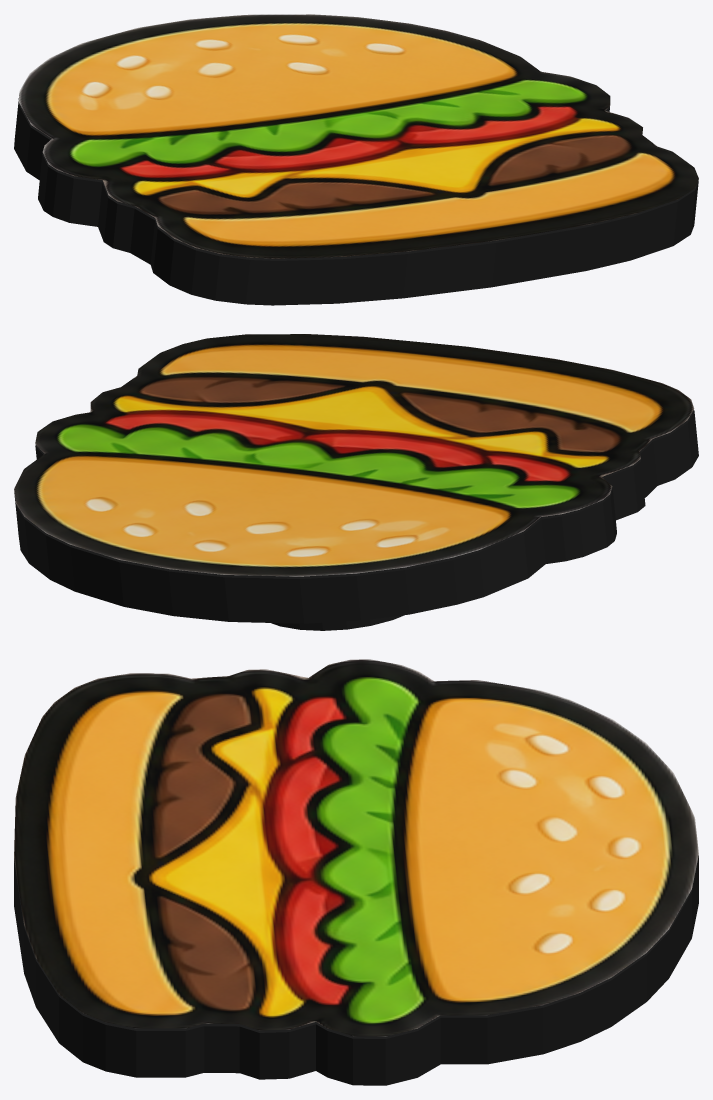
The model's file is food-burger.glb.
3 views of the same model, one above another, from view 1: azimuth 30°, elevation 25°; view 2: azimuth 150°, elevation 25°; view 3: azimuth 270°, elevation 25° (orthographic). The views are drawn at different scales.
Visible parts, largest first — view 1: FOOD_Burger_MODEL; view 2: FOOD_Burger_MODEL; view 3: FOOD_Burger_MODEL.
Part boxes in pixels (x1,y1,x2,y2): FOOD_Burger_MODEL: (14, 14, 698, 305); FOOD_Burger_MODEL: (14, 334, 698, 630); FOOD_Burger_MODEL: (14, 659, 698, 1085).
Size of the model in its own units: 0.3428 by 0.1009 by 0.3205.
Materials: 3 (1 with a texture image).
